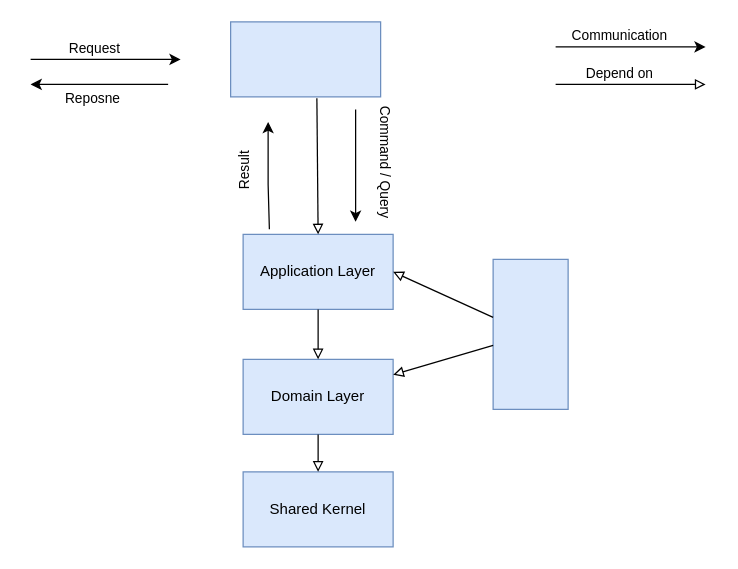
The diagram is 738 pixels wide and 569 high, and some of its shapes have lost their labels. Here are the shapes that lost their labels. From the top down, the centre of each, then its label:
[305,59]: Prsentation Layer
[530,333]: Infrastructure Layer
